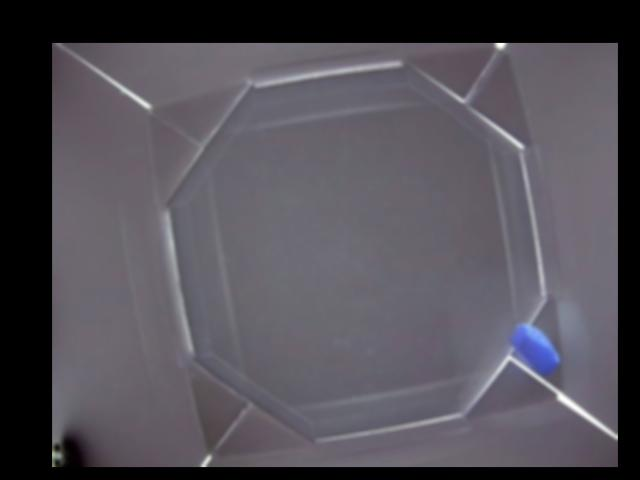Potato: (508, 323, 563, 374)
